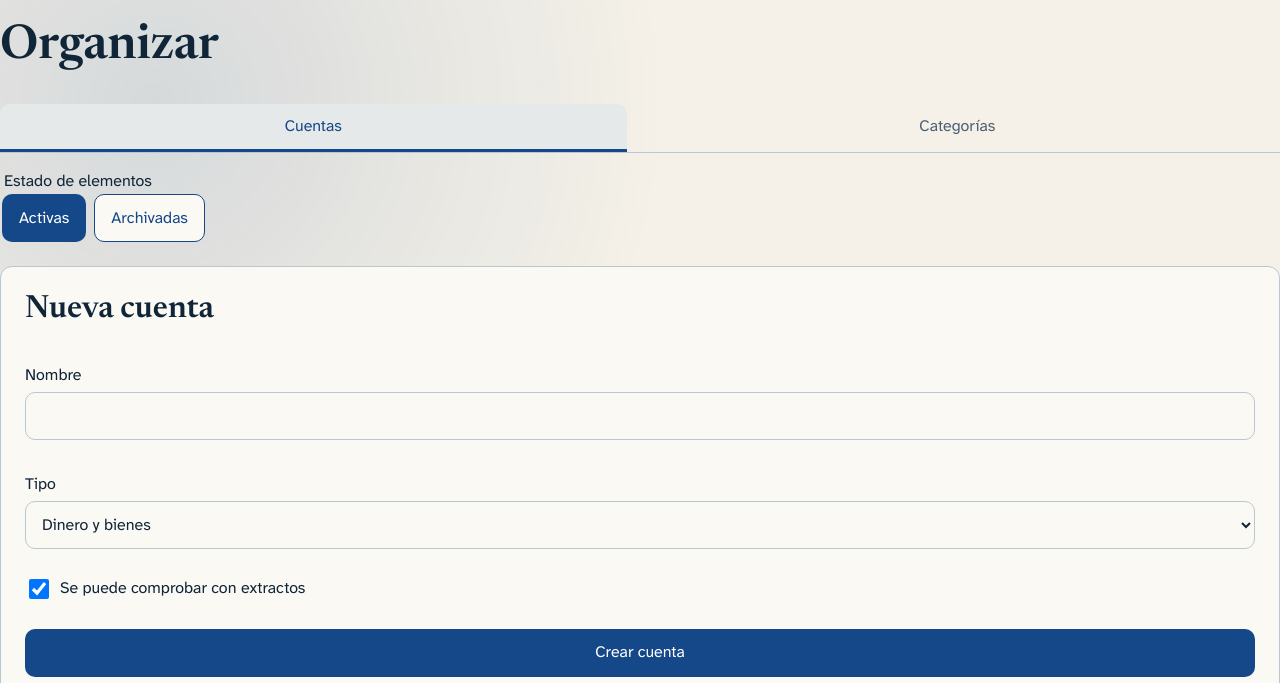
account and category organization › shares the active or archived filter and preserves catalog actions
Expected: the tab "Cuentas" is shown, [0,104,627,152]
Click the button "Archivadas" at [150, 218], box [94,194,205,242]
(page scrolled)
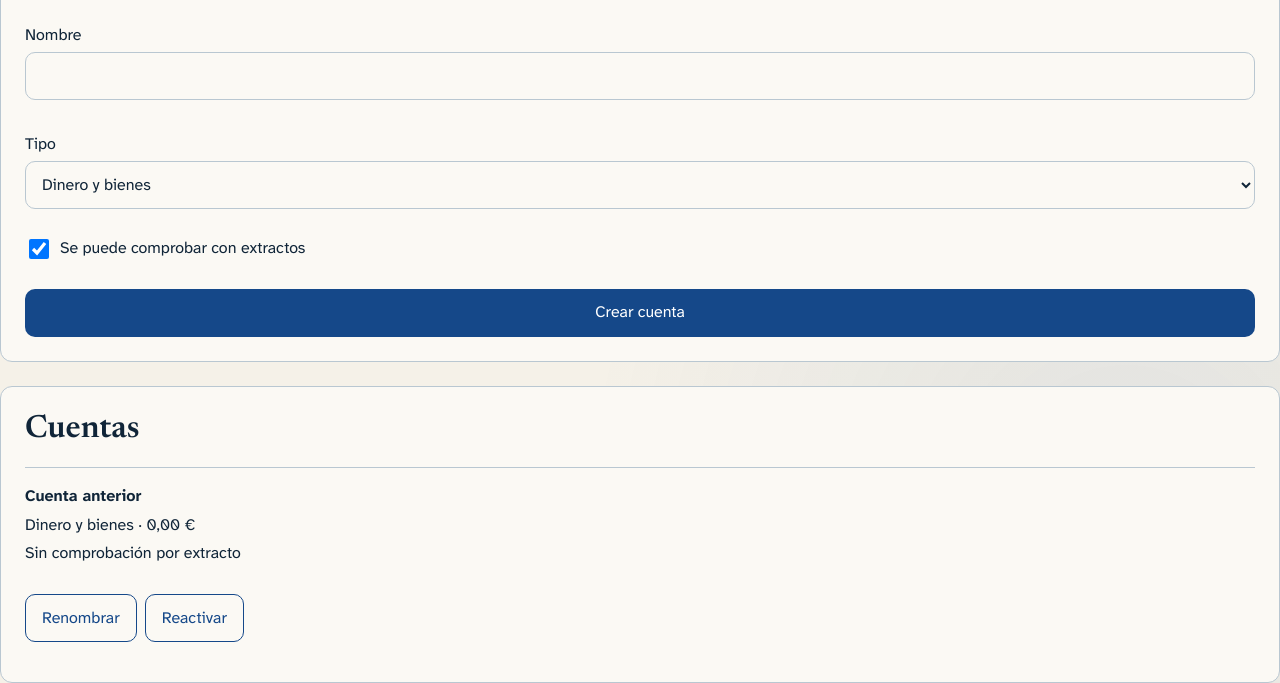
Now the text "Cuenta anterior" is shown, box [25,485,142,506]
Click the button "Reactivar" at [194, 618], box [145,594,244,642]
(page scrolled)
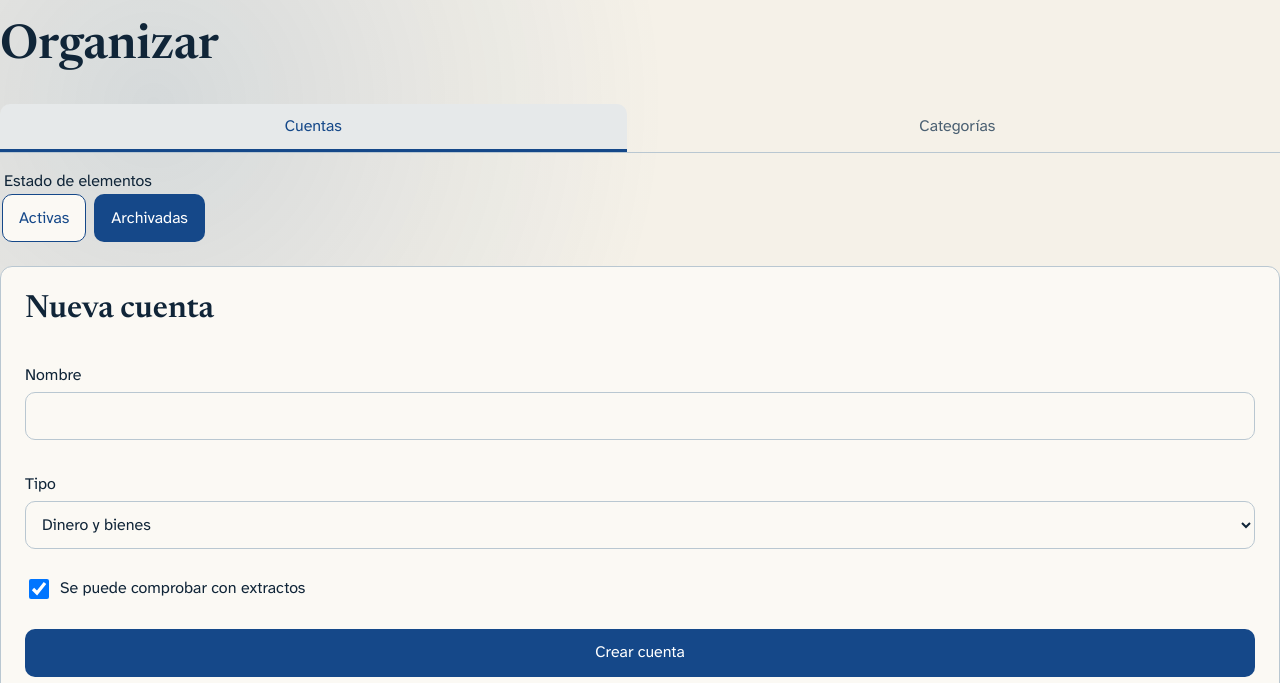
Click the tab "Categorías" at [957, 128], box [635,104,1279,152]
(page scrolled)
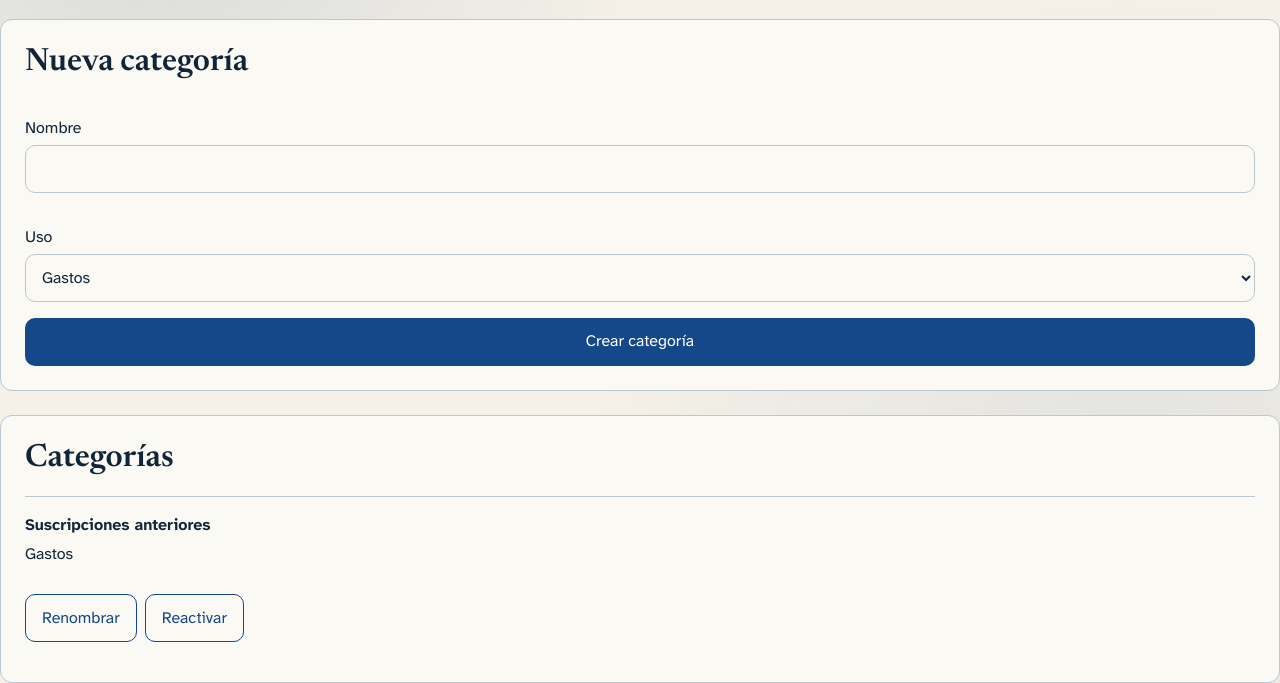
Expected: the text "Compras" is not shown
Now the text "Suscripciones anteriores" is shown, box [25,514,210,535]
Click the button "Reactivar" at [194, 618], box [145,594,244,642]
(page scrolled)
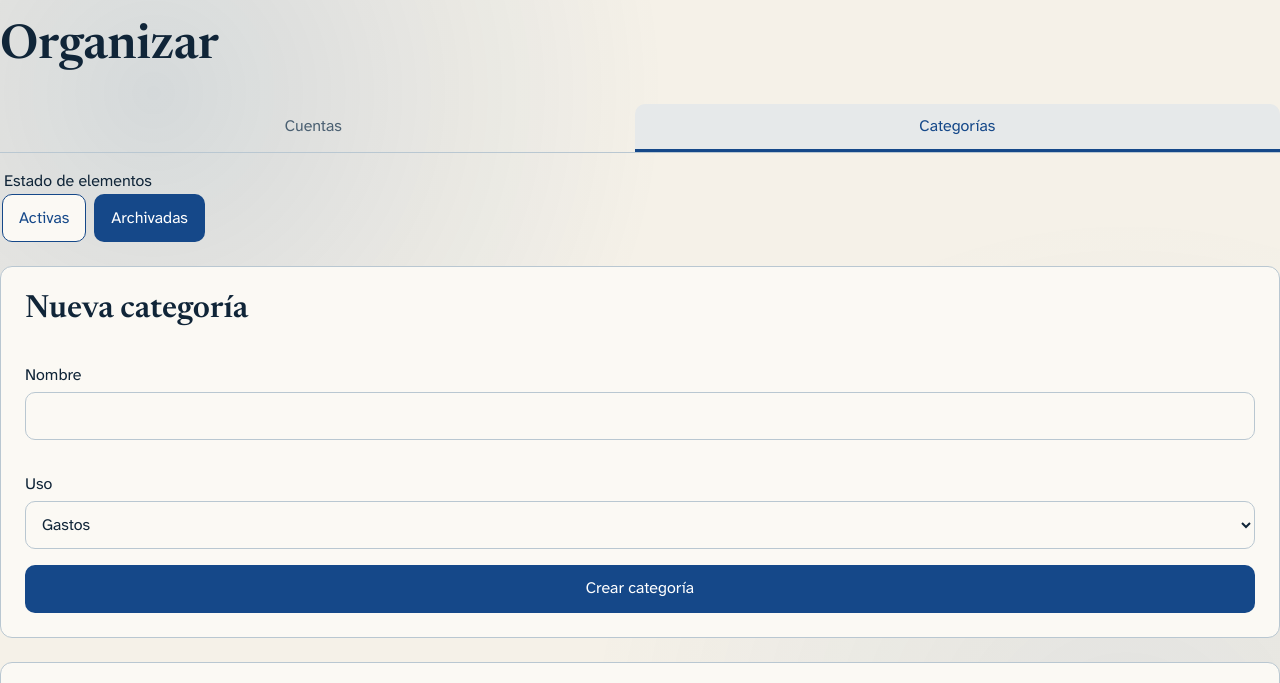
Click the button "Activas" at [44, 218], box [2,194,86,242]
(page scrolled)
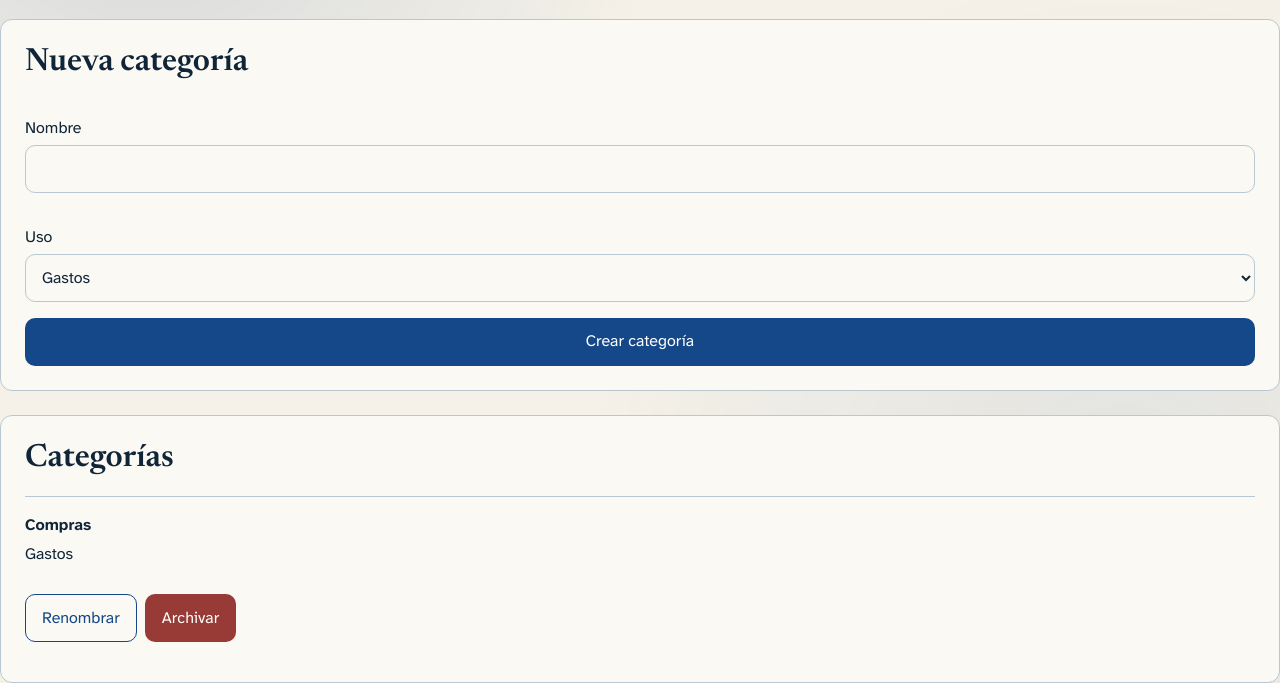
Now the text "Compras" is shown, box [25,514,91,535]
